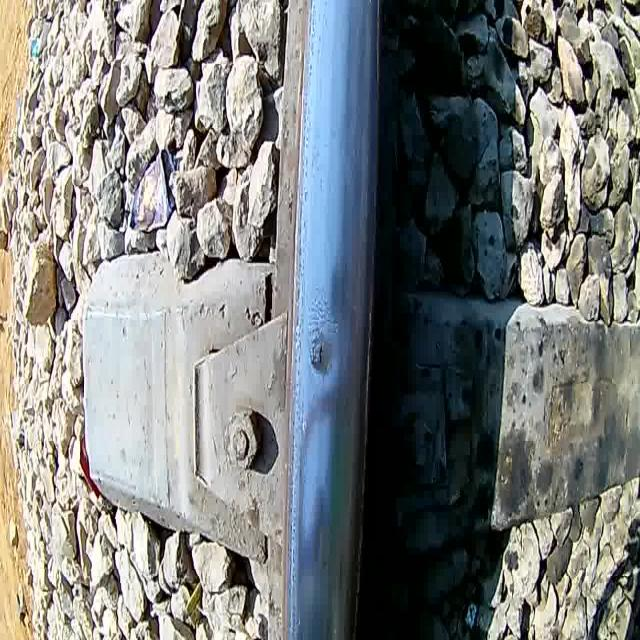Spallings: (316, 339, 326, 372)
Squats: (307, 322, 338, 382)
